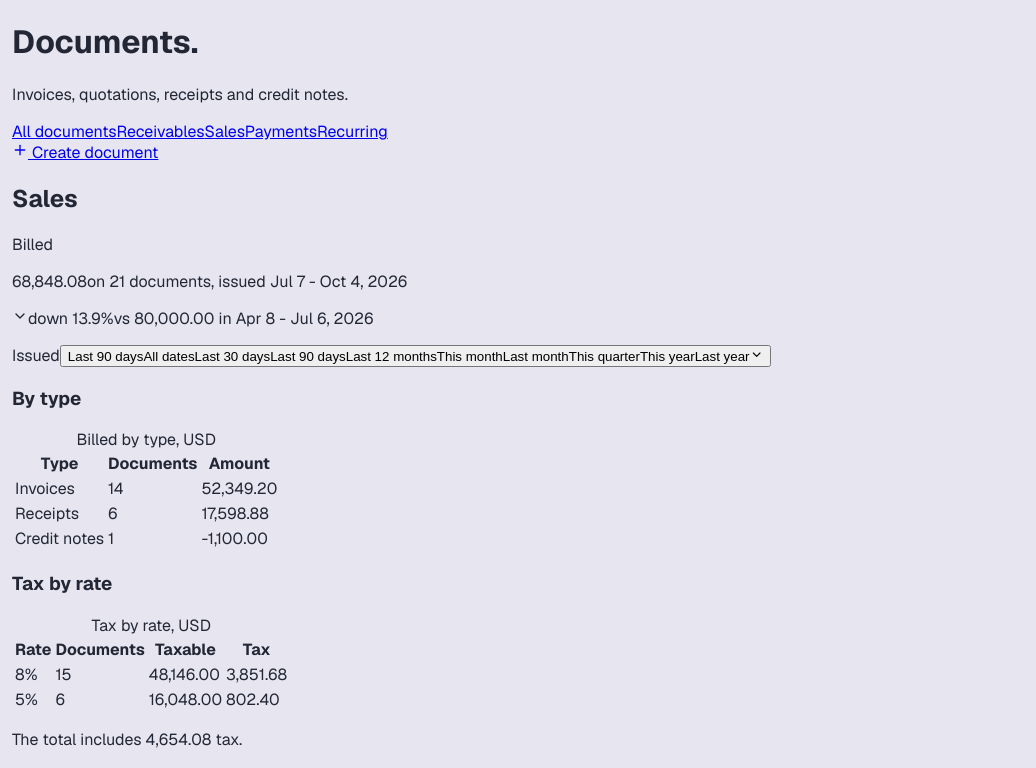
Scenario: marks a fall, skips zero base
Expected: the element showing "down 13.9%vs 80,000.00 in Apr 8 - Jul 6, 2026" is shown, [12,308,374,329]
Expected: the element showing "down 13.9%" is shown, [12,308,114,329]
Click the dropdown.
click(415, 356)  # box [60,345,771,367]
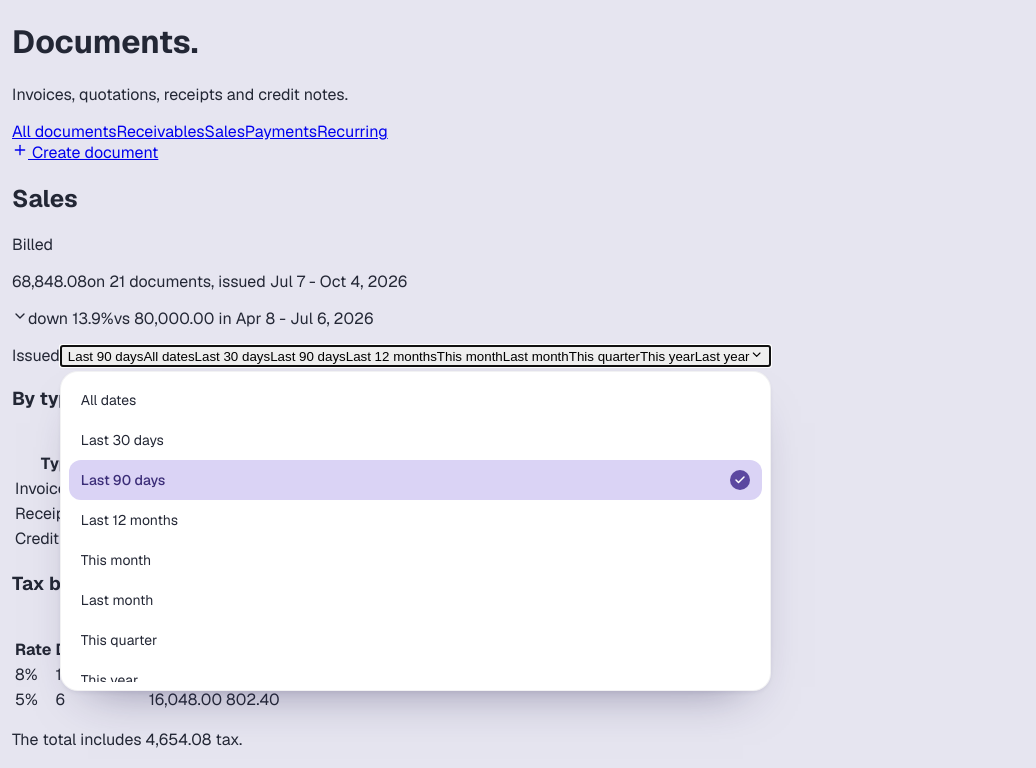
Click the option "Last 30 days".
click(122, 440)  # box [81,431,164,449]
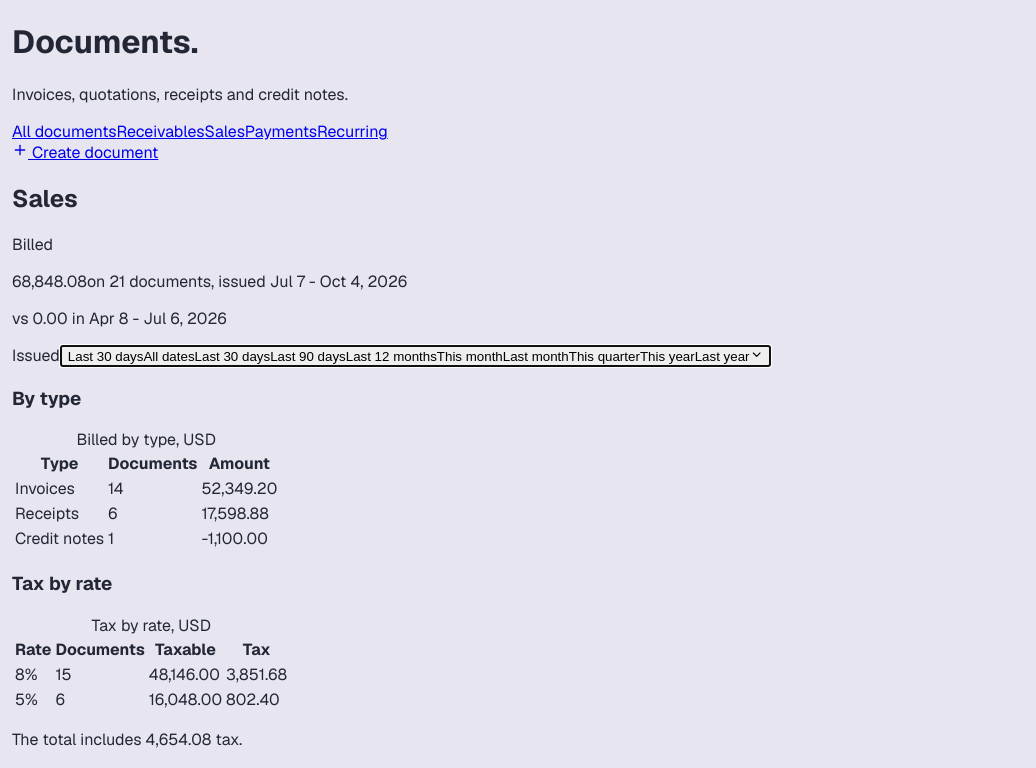
Now the element showing "vs 0.00 in Apr 8 - Jul 6, 2026" is shown, box [12,308,227,329]
